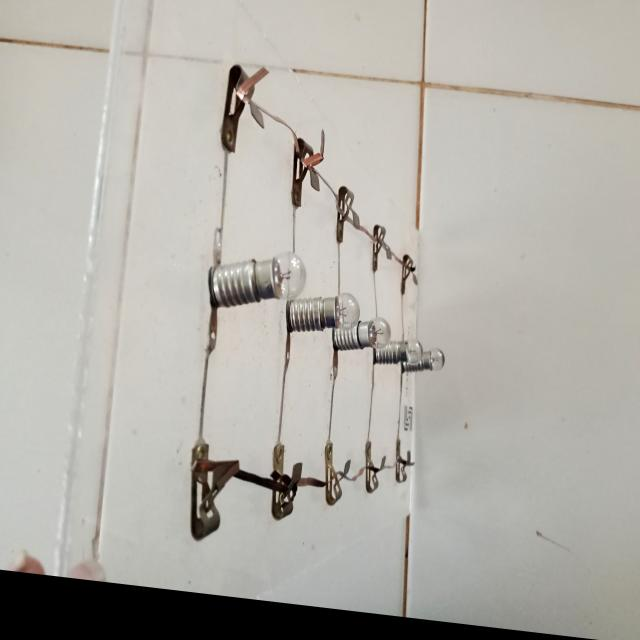Set of Resistors and Bulbs: (180, 44, 487, 556)
